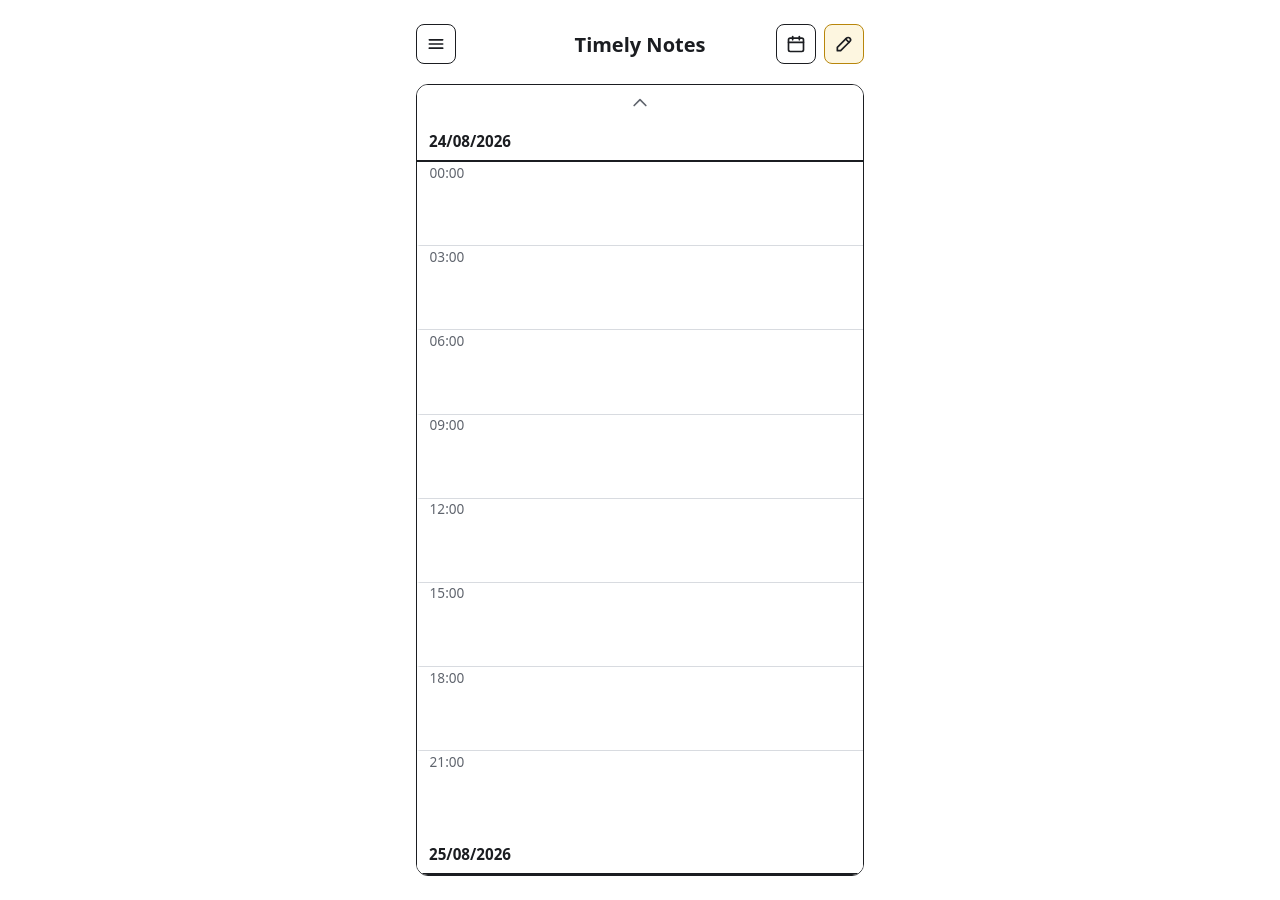
Test: App — live clock › raises the notice on a rollover that carries today out of a frozen window
Click the button named "Calendar" at (796, 44), box [776,24,816,64]
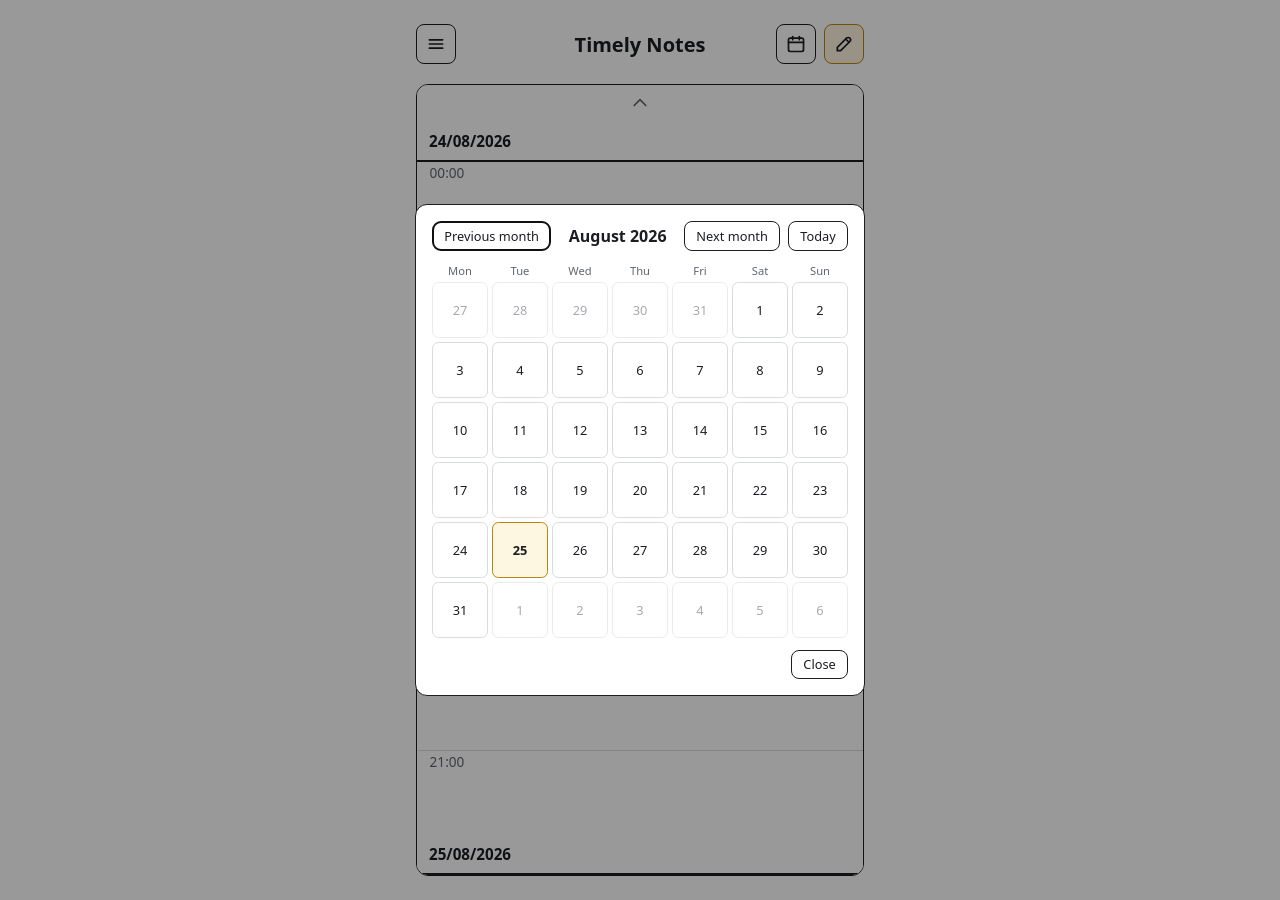
Click the button "24" at (460, 550), box [432,522,488,578]
Wait 120000 ms
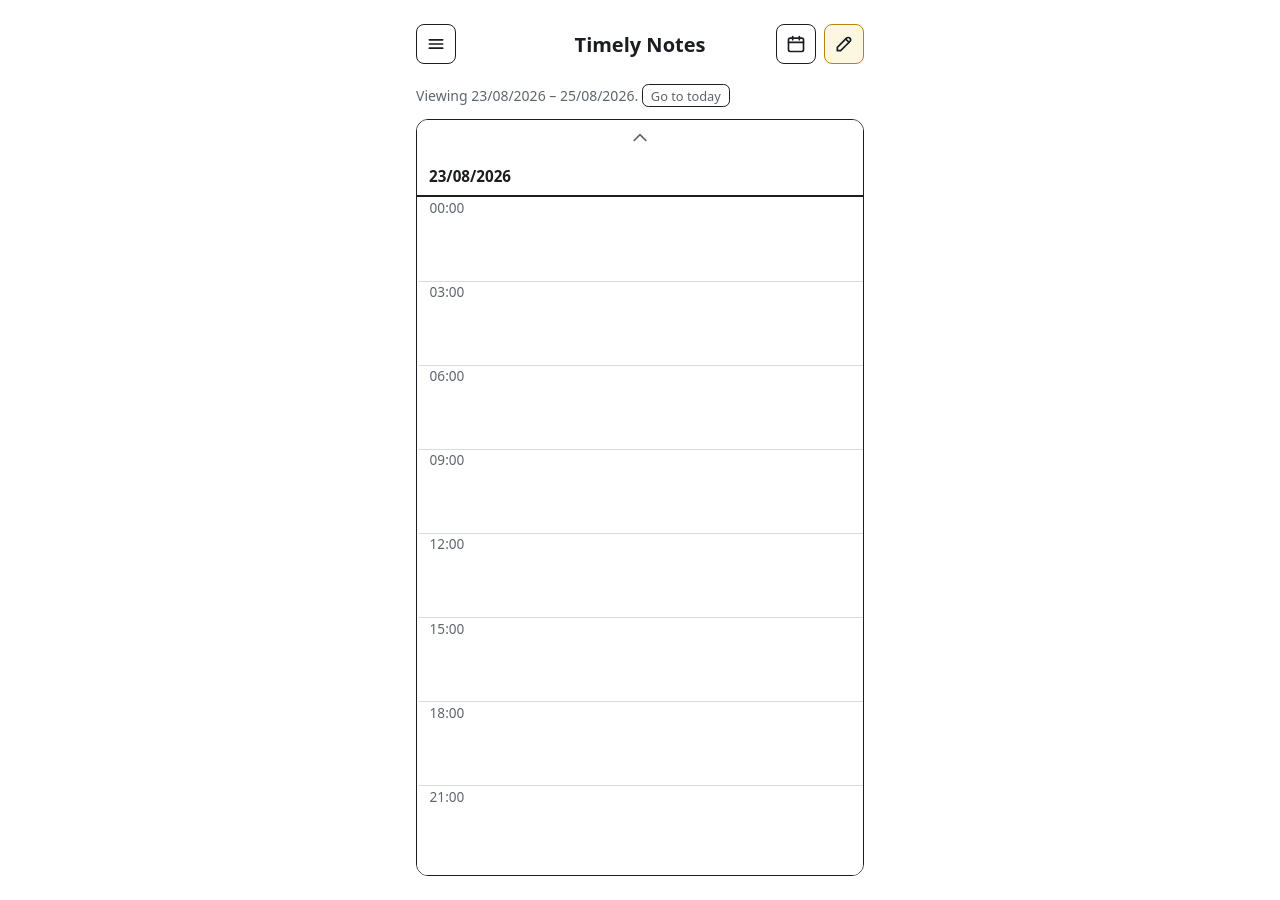
Now the text "Viewing 23/08/2026 – 25/08/2026. Go to today" is shown, box [416,84,730,107]
